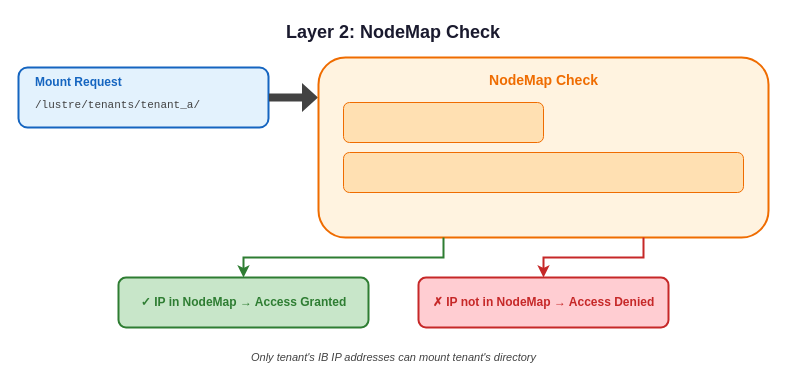
Image size: 786x384. Some labels were removed from this diagram. The shapes that lost their labels are listed below. From the top down, each one's box as (x1, y1, x2, y2) in pixels, then its label:
(342, 102, 544, 142): Request IP: 10.20.30.40
(342, 152, 744, 192): NodeMap for tenant_a: [10.20.30.40, 10.20.30.41]
